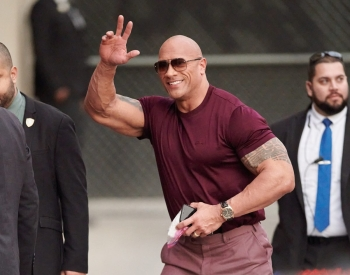hand: (99, 14, 140, 70), (176, 201, 220, 238)
